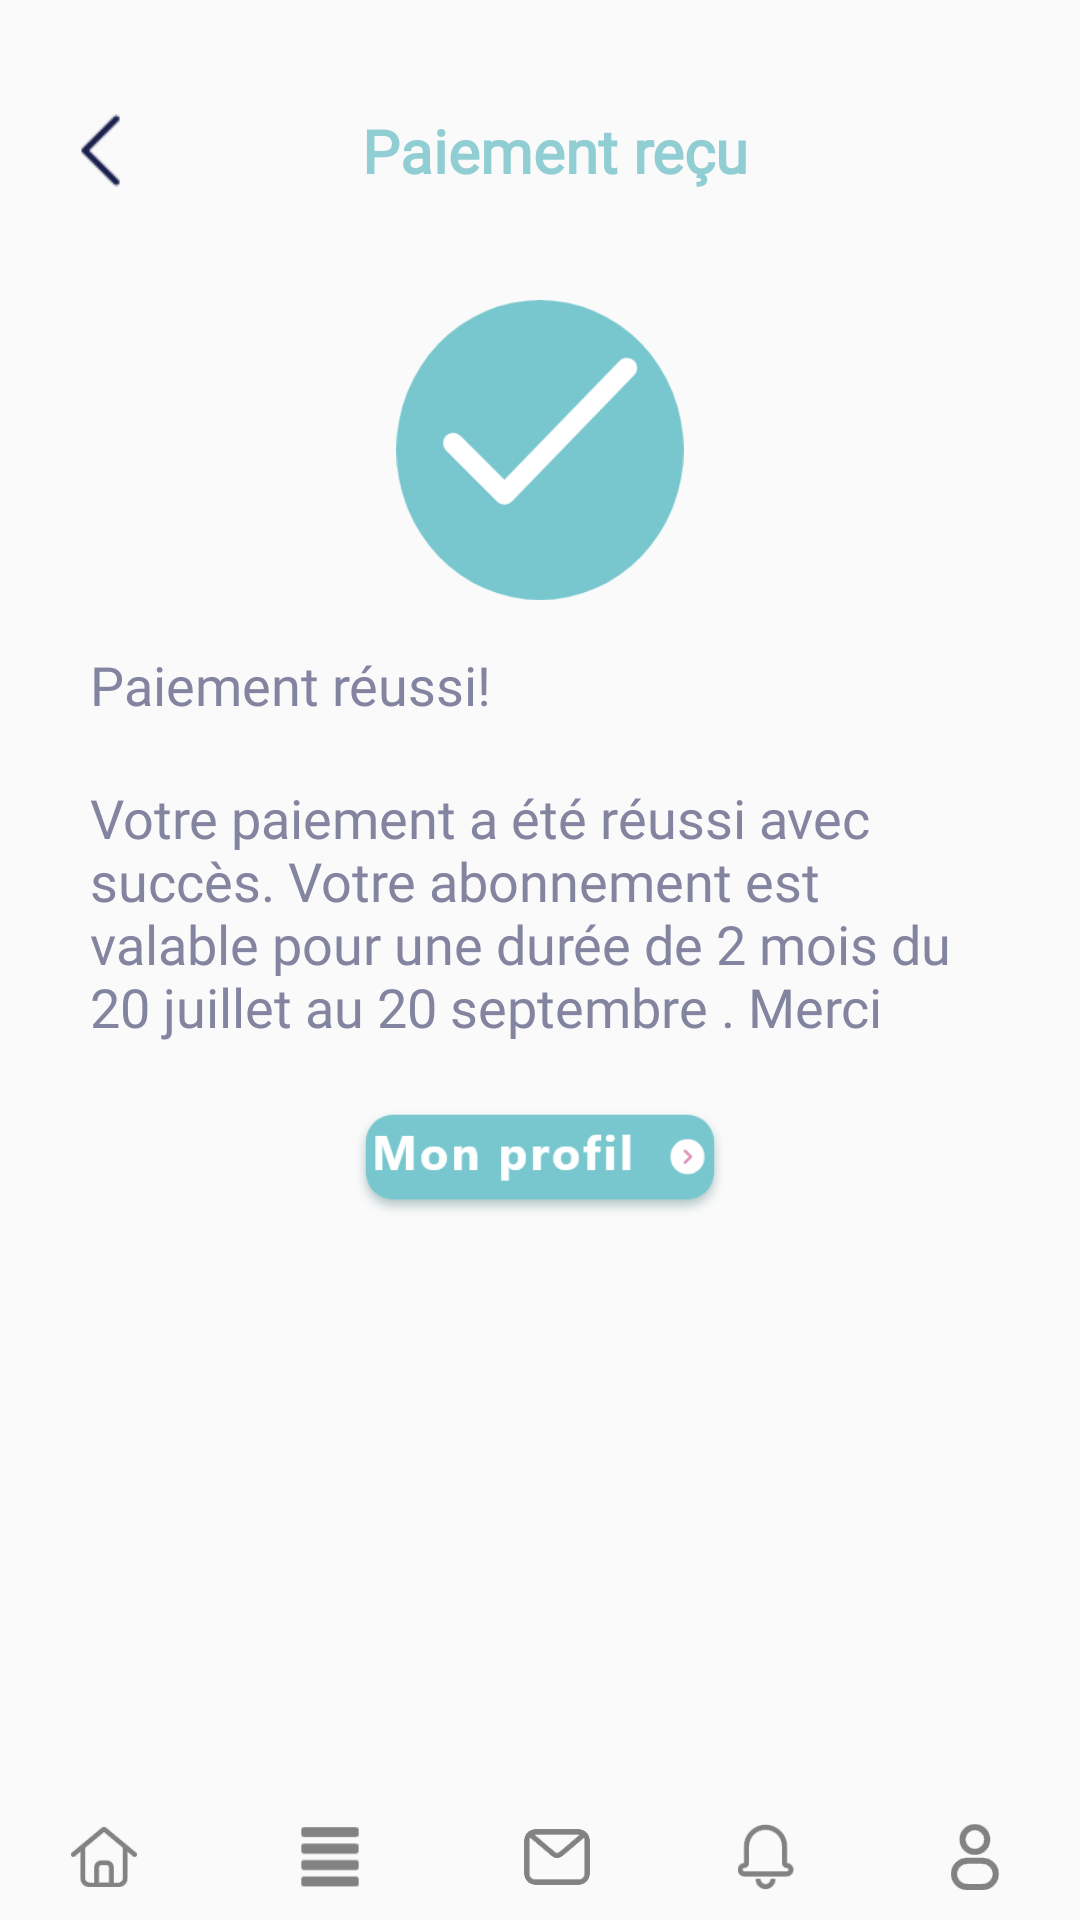

Screen size 1080x1920. Icon name, then its center in pixels as point (x, y):
blackback: point (100, 150)
homegrey: point (104, 1857)
menugrey: point (330, 1857)
msggrey: point (557, 1857)
notigrey: point (766, 1857)
usergrey: point (975, 1857)
